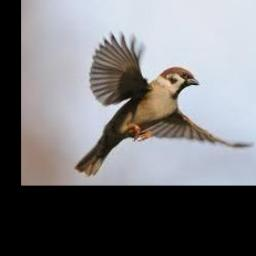Sparrow: (74, 31, 255, 177)
